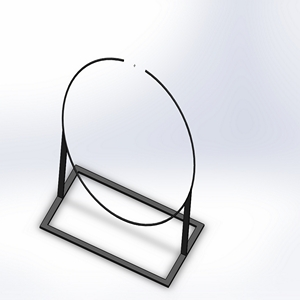circle: (39, 56, 207, 287)
